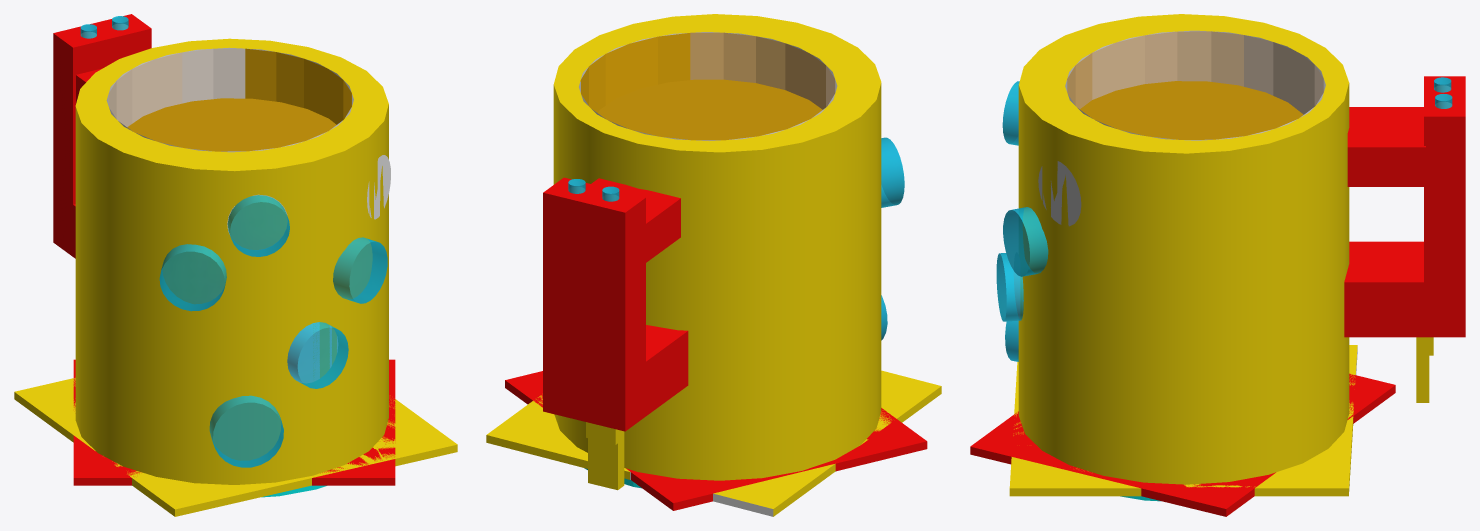
3 views of the same model, side by side, from view 1: azimuth 30°, elevation 25°; view 2: azimuth 150°, elevation 25°; view 3: azimuth 270°, elevation 25° (orthographic). The views are drawn at different scales.
Parts seen in each view (by area): view 1: mesh1_mesh1-geometry_2, mesh1_mesh1-geometry_4, mesh7_mesh7-geometry, mesh1_mesh1-geometry_3, mesh3_mesh3-geometry, mesh1_mesh1-geometry_5, mesh4_mesh4-geometry, mesh1_mesh1-geometry_6, mesh1_mesh1-geometry_11, mesh8_mesh8-geometry_1, mesh1_mesh1-geometry_8, mesh2_mesh2-geometry (+3 smaller); view 2: mesh1_mesh1-geometry_2, mesh7_mesh7-geometry, mesh1_mesh1-geometry_4, mesh1_mesh1-geometry_10, mesh1_mesh1-geometry_3, mesh1_mesh1-geometry_9, mesh6_mesh6-geometry, mesh7_mesh7-geometry_3, mesh4_mesh4-geometry, mesh1_mesh1-geometry; view 3: mesh1_mesh1-geometry_2, mesh7_mesh7-geometry, mesh1_mesh1-geometry_4, mesh1_mesh1-geometry_7, mesh1_mesh1-geometry_3, mesh6_mesh6-geometry, mesh1_mesh1-geometry_5, mesh2_mesh2-geometry, mesh1_mesh1-geometry_11, mesh5_mesh5-geometry, mesh1_mesh1-geometry_10, mesh7_mesh7-geometry_3 (+2 smaller).
Boxes of the visible parts, left/top/right/bottom form: mesh1_mesh1-geometry_2: left=14, top=38, right=457, bottom=516; mesh1_mesh1-geometry_4: left=127, top=98, right=336, bottom=151; mesh7_mesh7-geometry: left=53, top=14, right=151, bottom=258; mesh1_mesh1-geometry_3: left=73, top=359, right=395, bottom=485; mesh3_mesh3-geometry: left=209, top=395, right=283, bottom=467; mesh1_mesh1-geometry_5: left=108, top=52, right=182, bottom=126; mesh4_mesh4-geometry: left=159, top=244, right=226, bottom=311; mesh1_mesh1-geometry_6: left=182, top=48, right=245, bottom=103; mesh1_mesh1-geometry_11: left=287, top=322, right=348, bottom=388; mesh8_mesh8-geometry_1: left=227, top=195, right=289, bottom=256; mesh1_mesh1-geometry_8: left=245, top=48, right=303, bottom=107; mesh2_mesh2-geometry: left=333, top=237, right=387, bottom=303; mesh1_mesh1-geometry_2: left=486, top=14, right=941, bottom=516; mesh7_mesh7-geometry: left=543, top=177, right=688, bottom=431; mesh1_mesh1-geometry_4: left=598, top=79, right=822, bottom=140; mesh1_mesh1-geometry_10: left=690, top=32, right=825, bottom=109; mesh1_mesh1-geometry_3: left=505, top=371, right=927, bottom=510; mesh1_mesh1-geometry_9: left=580, top=33, right=690, bottom=112; mesh6_mesh6-geometry: left=591, top=178, right=680, bottom=262; mesh7_mesh7-geometry_3: left=586, top=422, right=624, bottom=490; mesh4_mesh4-geometry: left=881, top=137, right=904, bottom=207; mesh1_mesh1-geometry: left=579, top=32, right=837, bottom=516; mesh1_mesh1-geometry_2: left=1009, top=14, right=1357, bottom=496; mesh7_mesh7-geometry: left=1344, top=76, right=1465, bottom=337; mesh1_mesh1-geometry_4: left=1080, top=81, right=1303, bottom=139; mesh1_mesh1-geometry_7: left=1092, top=31, right=1243, bottom=99; mesh1_mesh1-geometry_3: left=970, top=373, right=1395, bottom=516; mesh6_mesh6-geometry: left=1347, top=107, right=1425, bottom=186; mesh1_mesh1-geometry_5: left=1244, top=35, right=1323, bottom=114; mesh2_mesh2-geometry: left=1003, top=207, right=1048, bottom=276; mesh1_mesh1-geometry_11: left=996, top=253, right=1023, bottom=321; mesh5_mesh5-geometry: left=1038, top=161, right=1081, bottom=226; mesh1_mesh1-geometry_10: left=1067, top=53, right=1092, bottom=109; mesh7_mesh7-geometry_3: left=1416, top=337, right=1433, bottom=402.
Size of the model in its own units: 0.5763 by 0.4994 by 0.6469.
15 materials, 1 textured.
